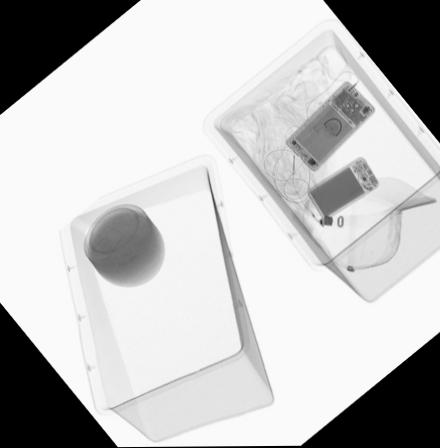Powerbank: (304, 153, 381, 222)
